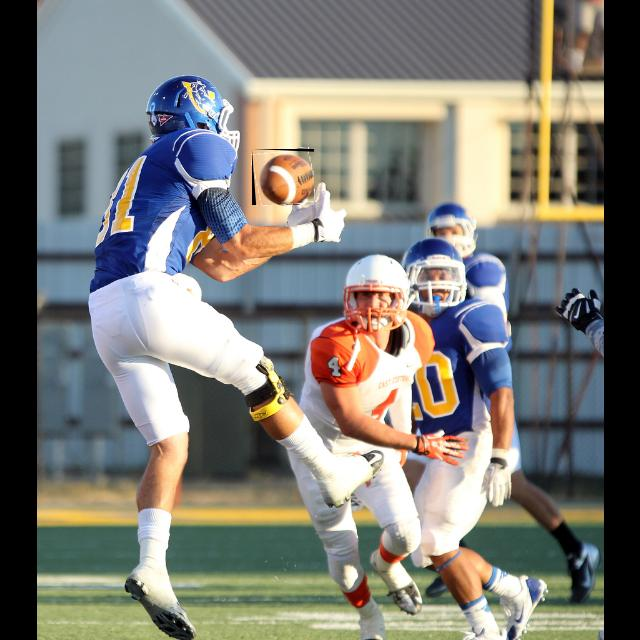Football: (252, 149, 314, 205)
